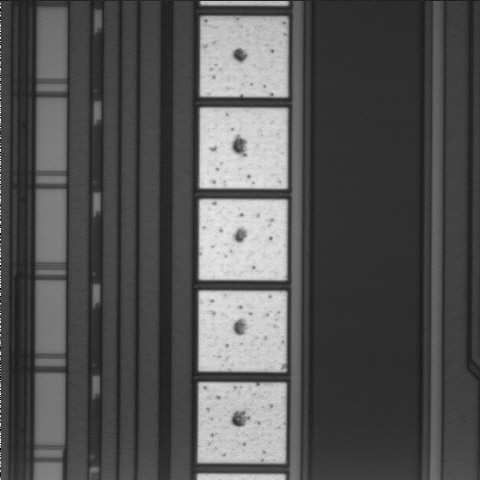pad: (199, 199, 287, 280), (199, 291, 287, 372), (200, 108, 287, 189), (200, 17, 288, 97), (198, 383, 286, 463)
